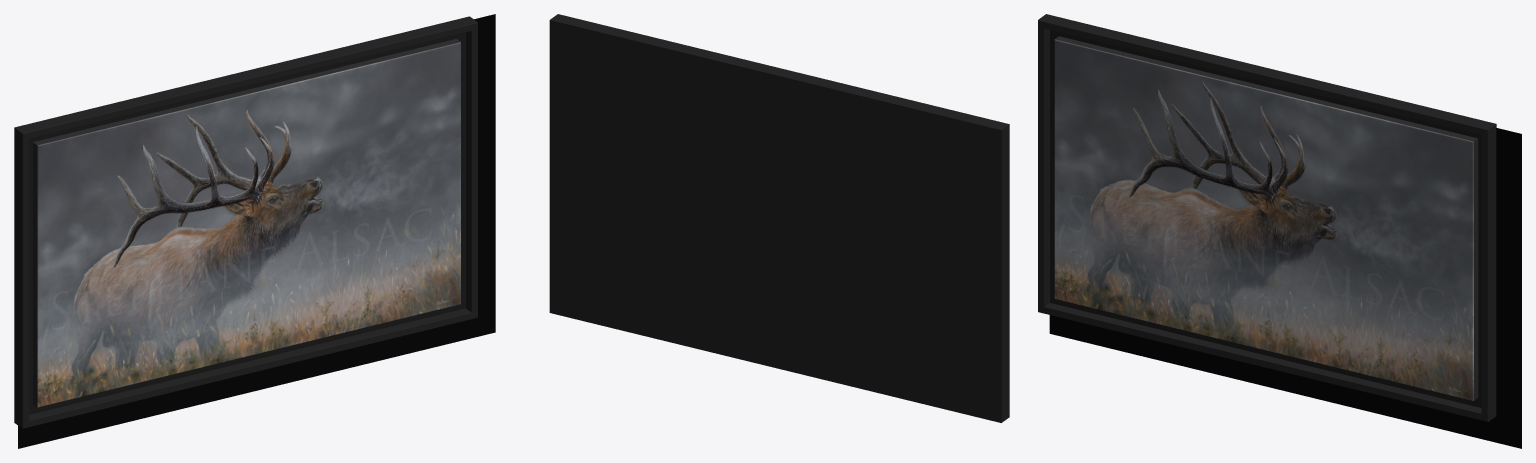
File: tableau-wapiti-grand-600e4766.glb
3 views of the same model, side by side, from view 1: azimuth 30°, elevation 25°; view 2: azimuth 150°, elevation 25°; view 3: azimuth 330°, elevation 25° (orthographic).
Parts seen in each view (by area): view 1: Painting; view 2: Painting; view 3: Painting.
Boxes of the visible parts, x1,y1,x2,y2 form: Painting: (14,14,495,448); Painting: (549,14,1009,422); Painting: (1038,14,1521,448).
Size of the model in its own units: 1.31 by 0.836 by 0.04.
Materials: 5 (3 with a texture image).
